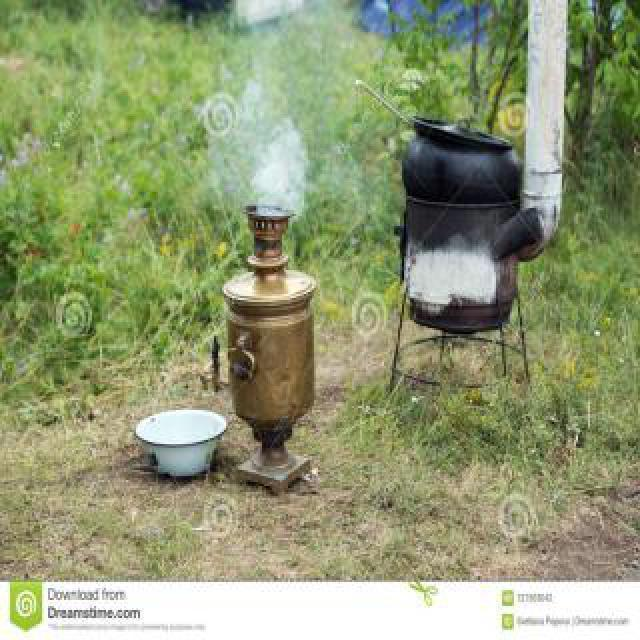Smoke: (206, 54, 310, 226)
